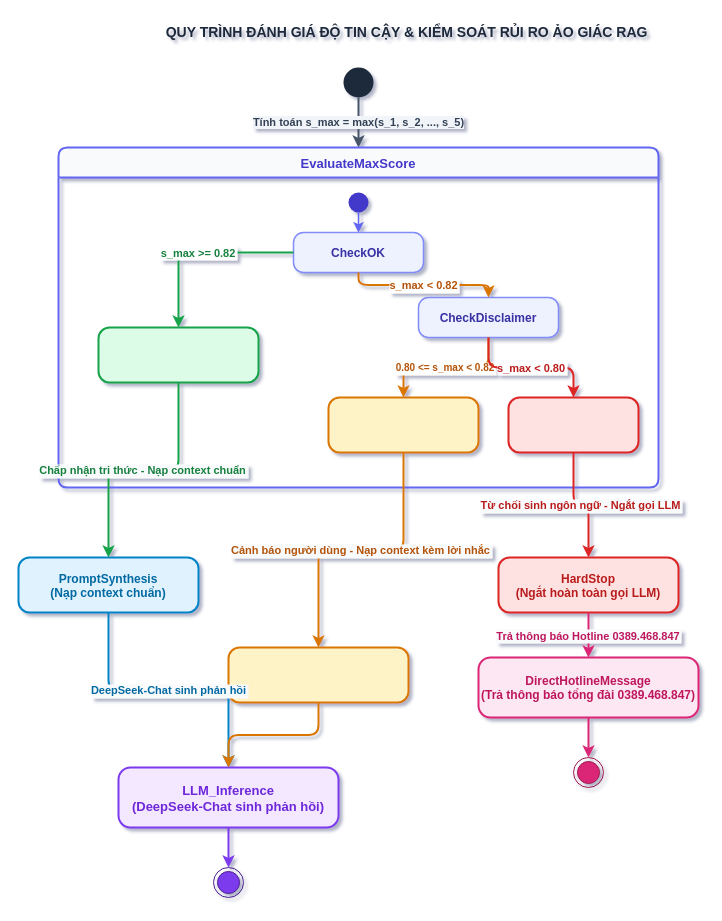
Some shapes in this 722 by 921 pixel diagram are drawn without their labels. Here are the shapes that lost their labels. From the top down, the centre of each, then its label:
At point 178,354: "State_OK (Độ tin cậy cao)".
At point 403,424: "State_Disclaimer (Cảnh báo lời nhắc)".
At point 573,424: "State_Reject (Từ chối RAG)".
At point 318,674: "PromptWithDisclaimer (Gắn câu cảnh báo)".
